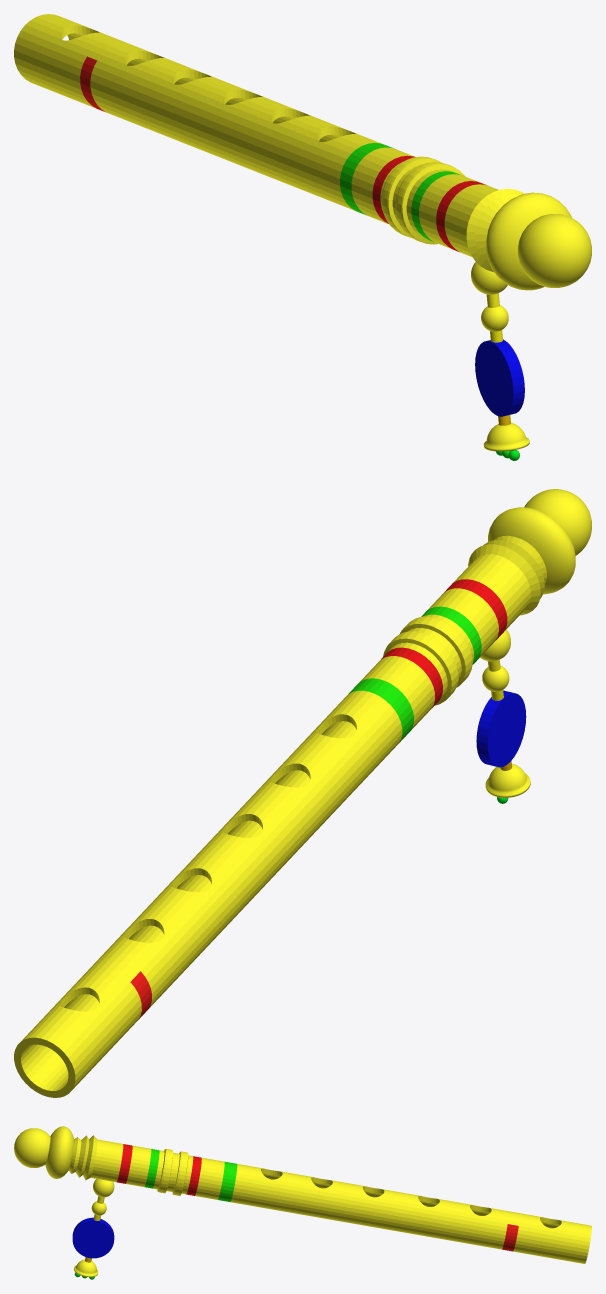
Rendered from Flute.gltf.
The picture shows the model from 3 angles, top to bottom: view 1: azimuth 30°, elevation 25°; view 2: azimuth 150°, elevation 25°; view 3: azimuth 270°, elevation 25°; orthographic projection. The views are drawn at different scales.
Parts seen in each view (by area): view 1: Sphere.003, Circle, Cylinder.003, Cylinder.002; view 2: Sphere.003, Circle, Cylinder.003, Cylinder.002; view 3: Sphere.003, Circle, Cylinder.003, Cylinder.002.
Part boxes in pixels (<box>): Sphere.003: <box>14,14,591,451</box>; Circle: <box>475,339,524,416</box>; Cylinder.003: <box>340,143,461,241</box>; Cylinder.002: <box>372,155,486,252</box>; Sphere.003: <box>14,489,591,1097</box>; Circle: <box>476,690,526,767</box>; Cylinder.003: <box>348,606,481,742</box>; Cylinder.002: <box>381,579,507,707</box>; Sphere.003: <box>14,1126,591,1277</box>; Circle: <box>72,1217,114,1258</box>; Cylinder.003: <box>144,1149,237,1201</box>; Cylinder.002: <box>117,1144,201,1195</box>.
Size of the model in its own units: 0.6 by 1.87 by 6.5.
